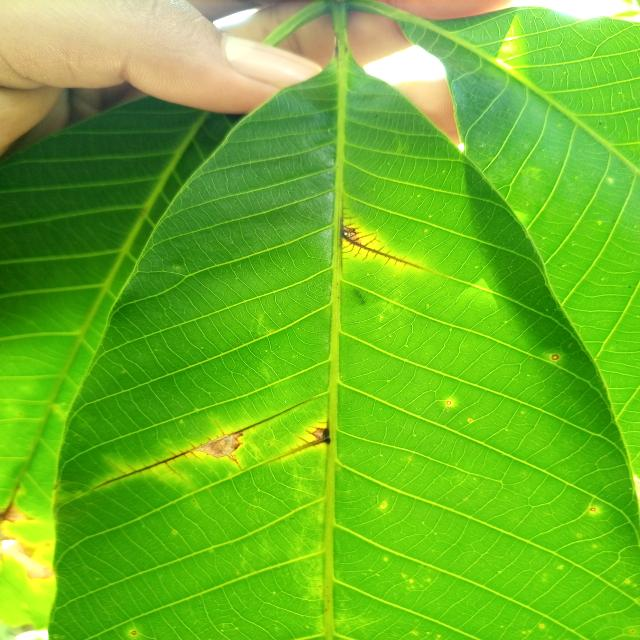Colletotrichum: (552, 355, 558, 360), (590, 508, 596, 512), (447, 400, 451, 405)
Corynespora: (94, 397, 314, 490), (339, 207, 420, 271), (93, 449, 196, 489), (232, 397, 314, 435), (288, 418, 330, 456), (227, 454, 243, 471)
Leaf-Blight: (0, 534, 55, 581), (196, 432, 243, 457), (0, 504, 32, 524)
